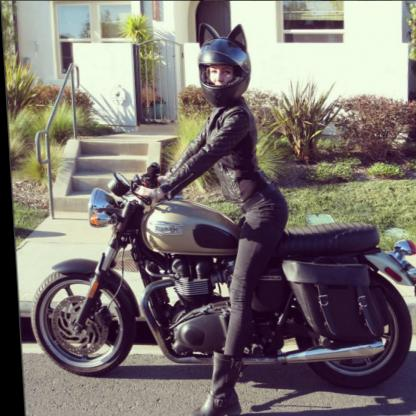With Helmet: (194, 22, 252, 103)
